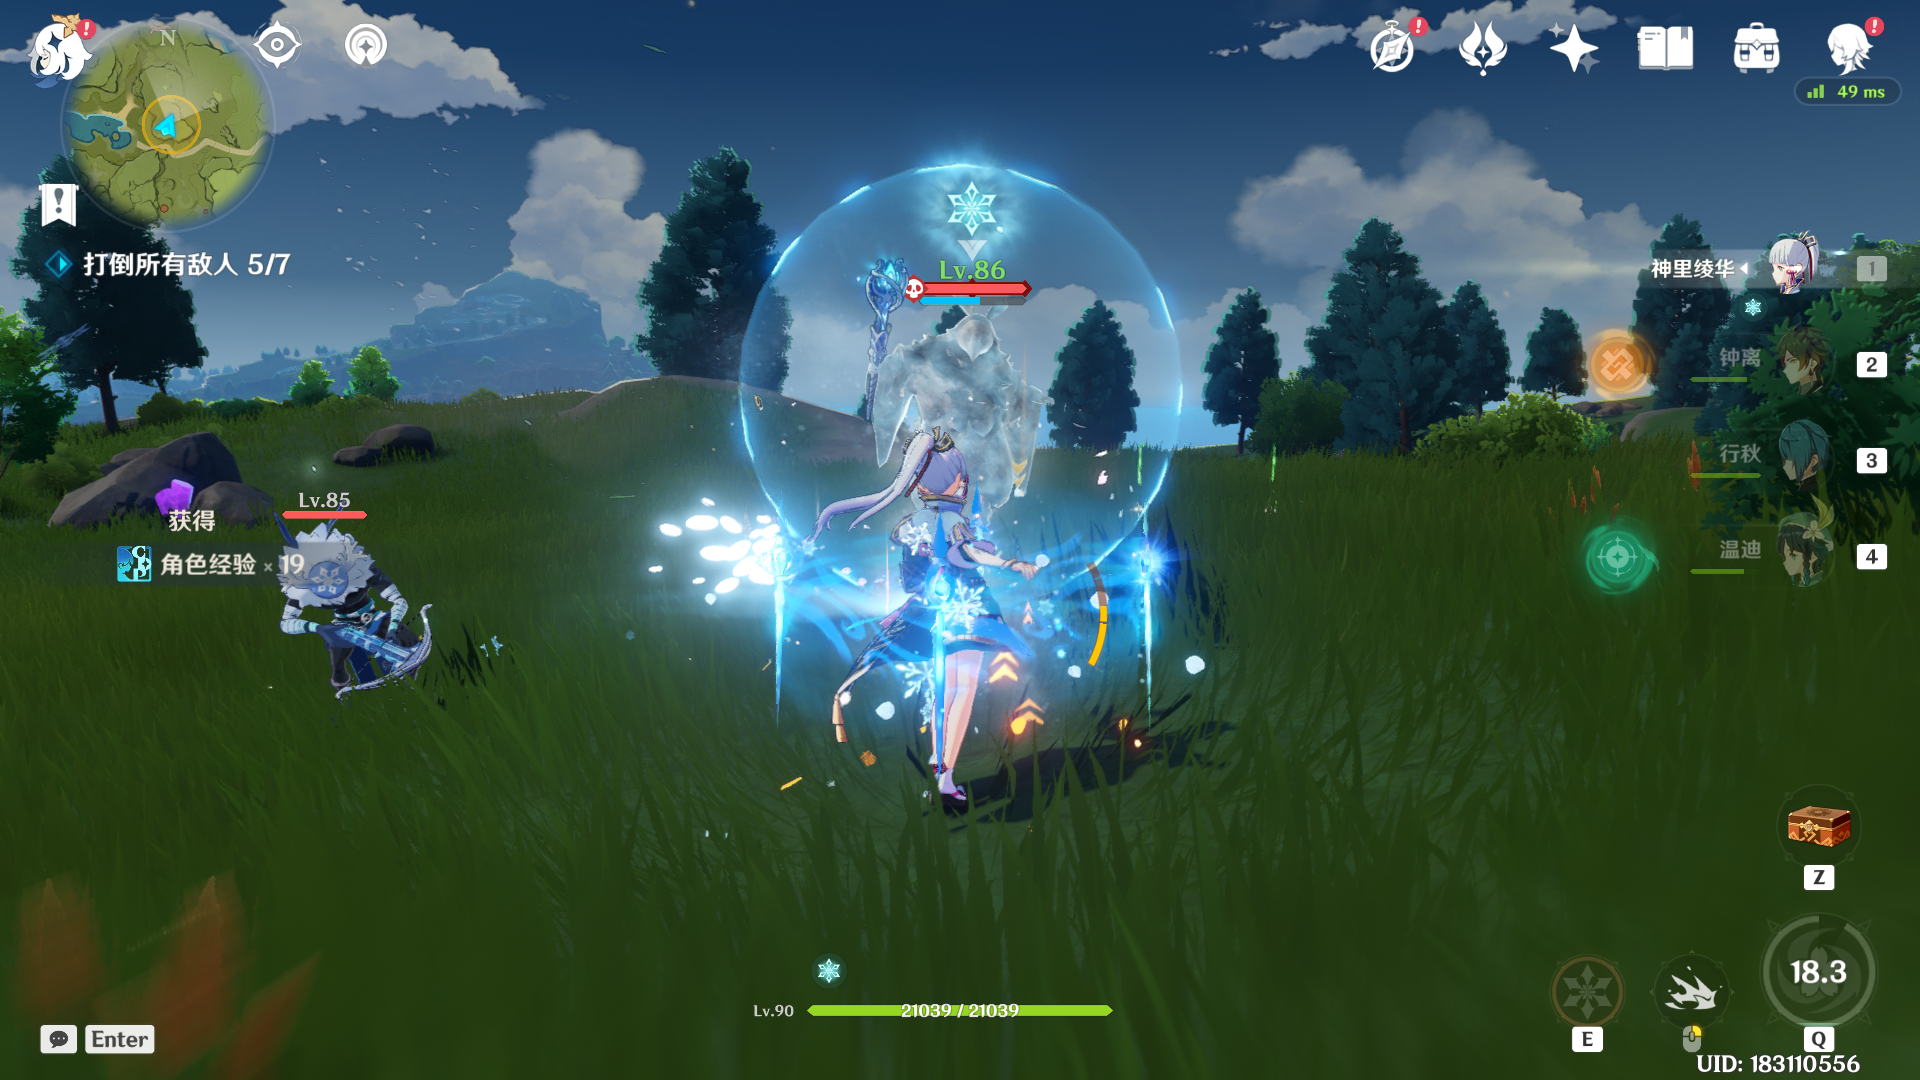caster: (833, 232, 1065, 575)
character: (857, 423, 1072, 833)
hili: (277, 498, 487, 744)
